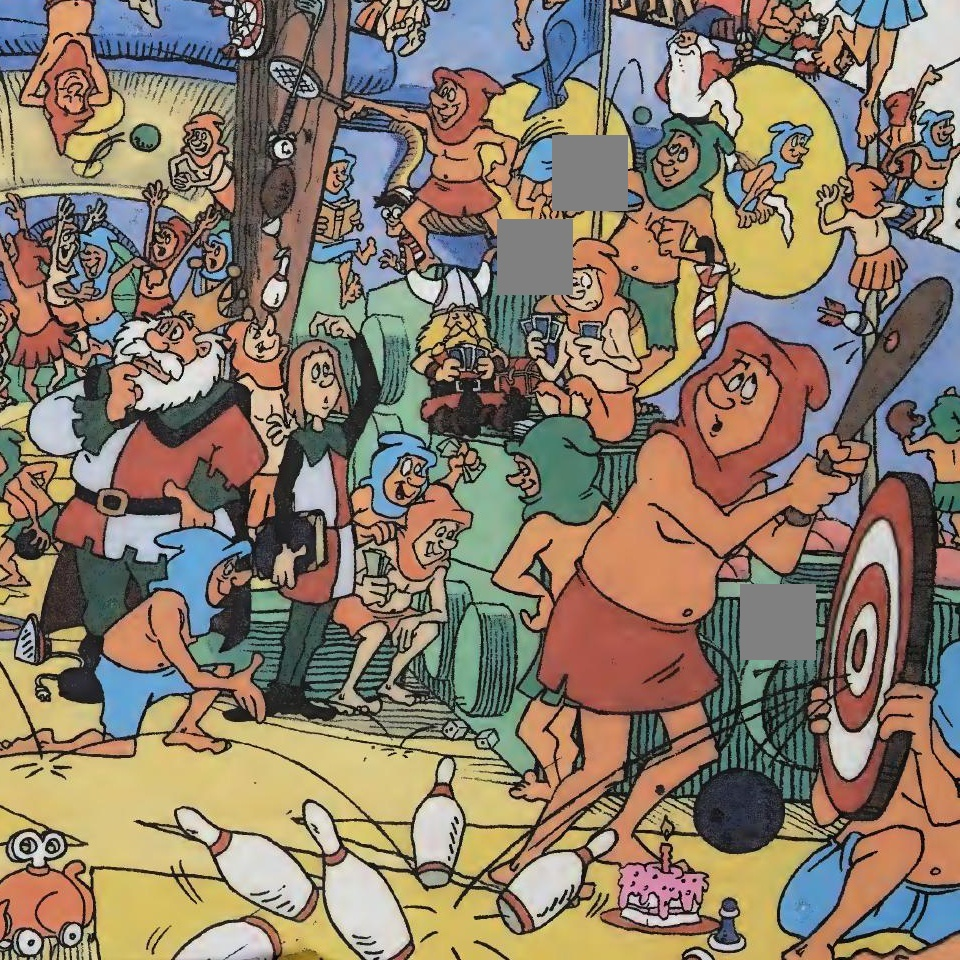waldo: (378, 187, 419, 244)
